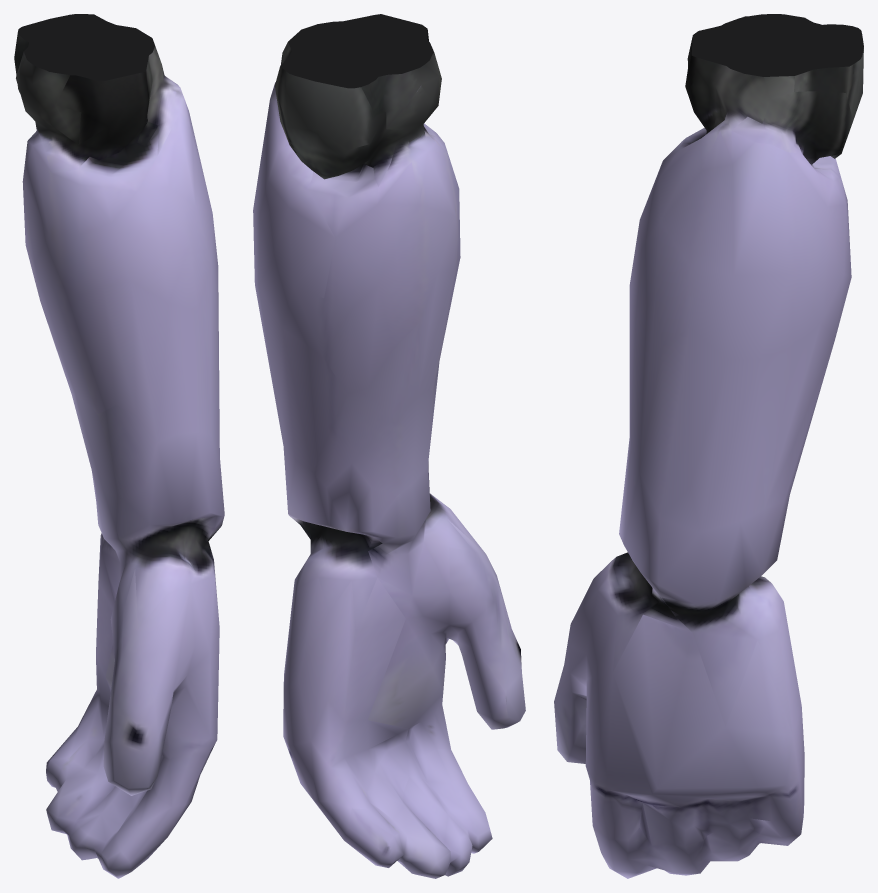
File: DummyForeArmL.obj
3 renders of one model, left to right at view 1: azimuth 30°, elevation 25°; view 2: azimuth 150°, elevation 25°; view 3: azimuth 270°, elevation 25°, orthographic. The views are drawn at different scales.
Bounding box in the file's own units: 1.64 × 7.37 × 2.42.
Materials: 1 (1 with a texture image).
